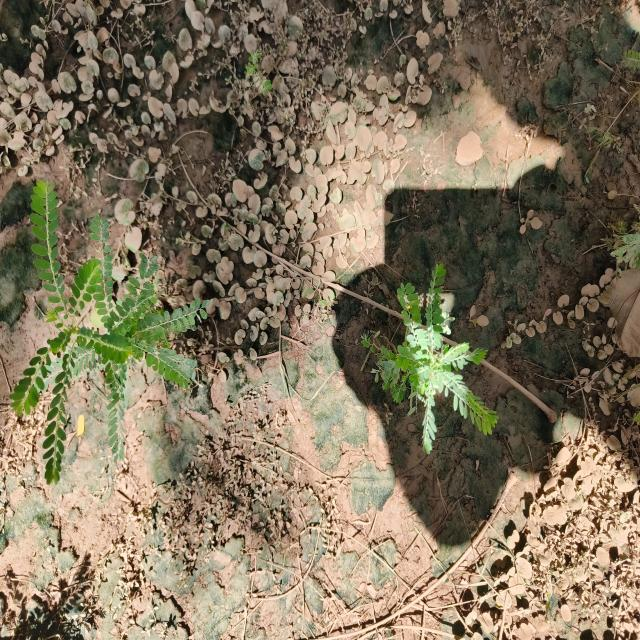weed: (1, 173, 212, 497), (369, 255, 516, 453)
